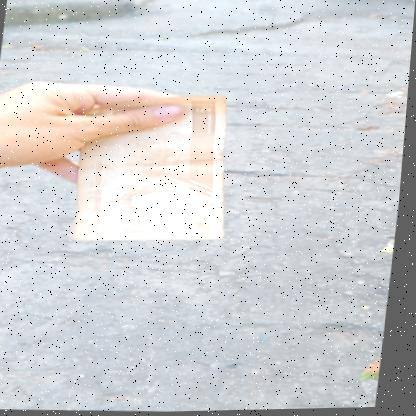five-back-vef: (72, 91, 242, 245)
